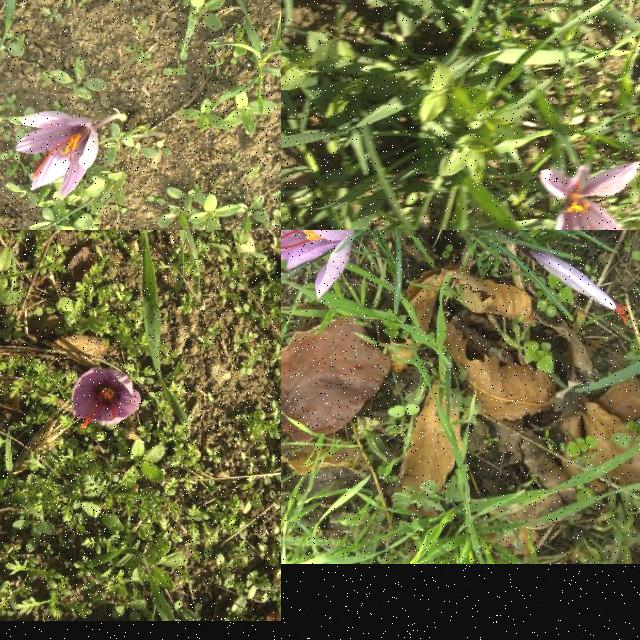flower: (526, 248, 630, 322), (16, 111, 98, 200), (540, 162, 640, 230), (281, 230, 354, 298), (72, 369, 142, 431)
